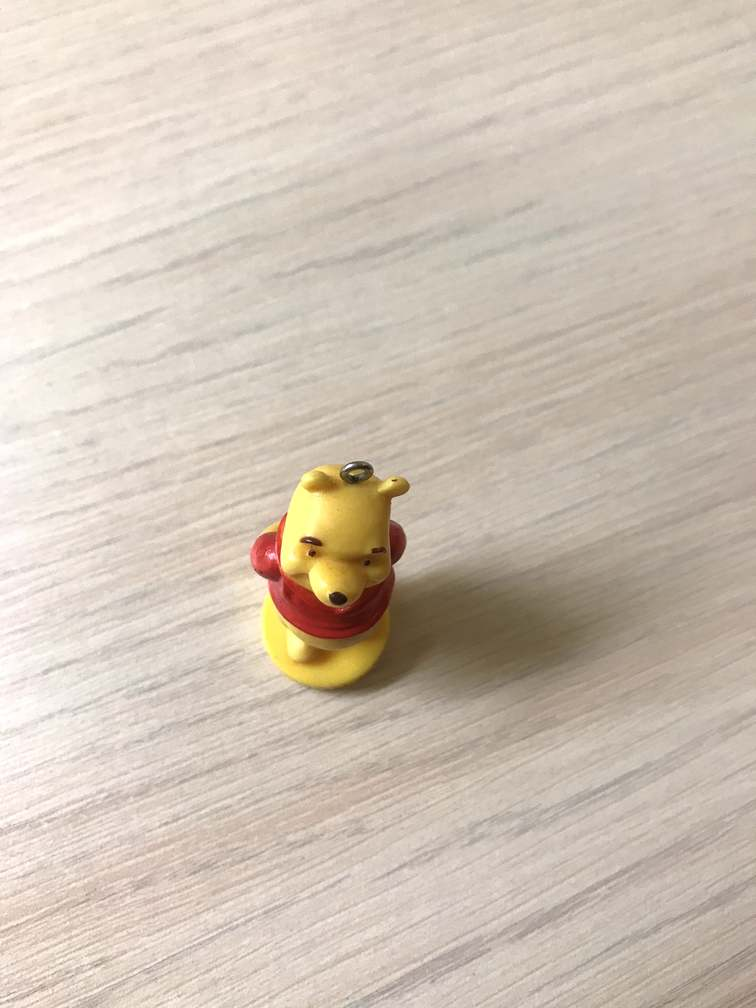Winnie: (264, 460, 410, 640)
